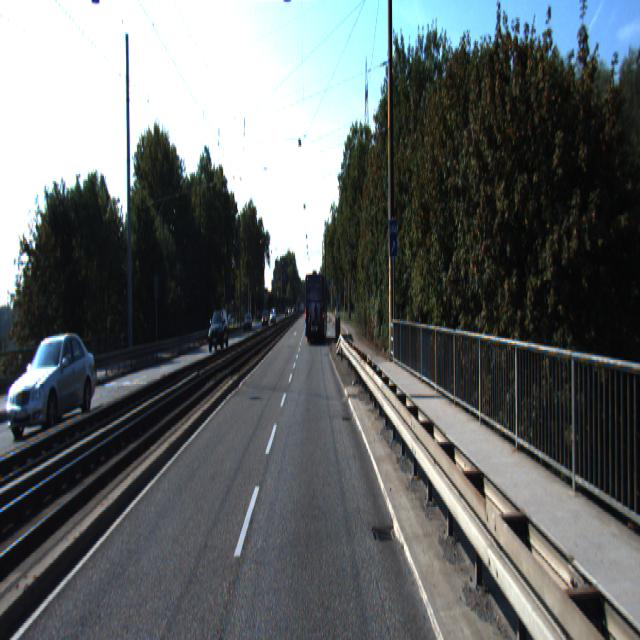Car: (6, 328, 101, 438), (305, 273, 329, 345), (208, 311, 229, 355)
